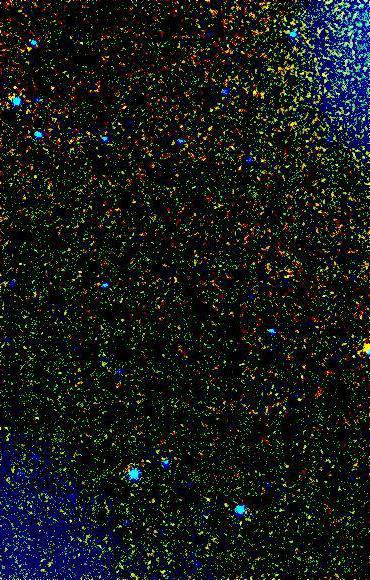star: (3, 71, 33, 101)
